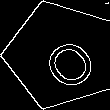O_NW: (26, 22, 95, 88)
